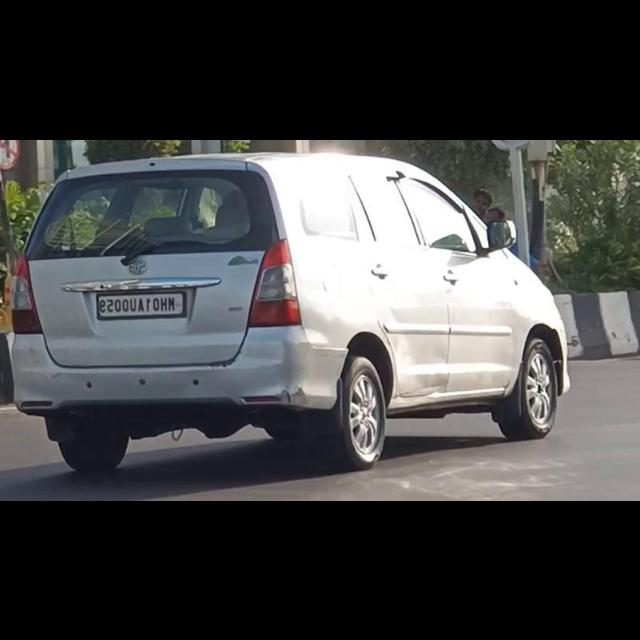vehicles: (12, 142, 570, 480)
